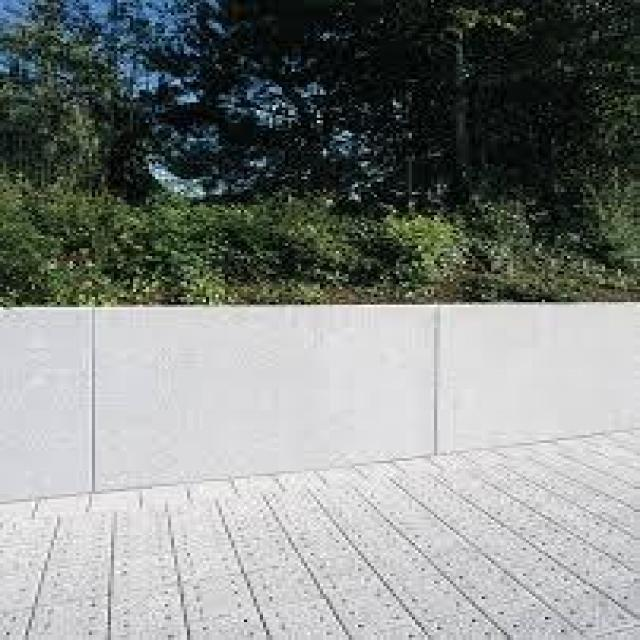curb: (4, 296, 636, 512)
